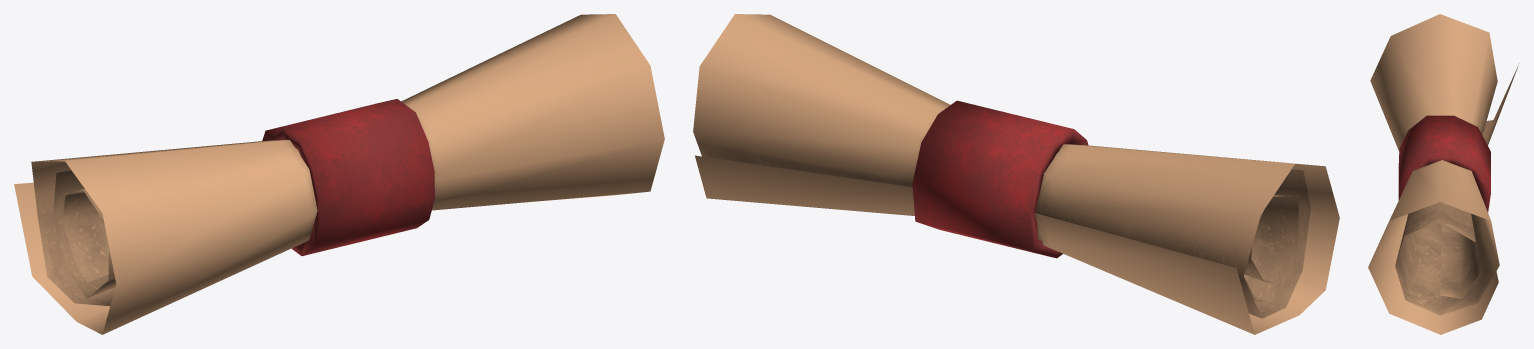
Rendered from scroll_1.fbx.
The picture shows the model from 3 angles, left to right: view 1: azimuth 30°, elevation 25°; view 2: azimuth 150°, elevation 25°; view 3: azimuth 270°, elevation 25°; orthographic projection. The views are drawn at different scales.
Visible parts, largest first — view 1: Cylinder.013; view 2: Cylinder.013; view 3: Cylinder.013.
Boxes of the visible parts, box(x1,y1,x2,y2) form: Cylinder.013: box(14, 14, 664, 334); Cylinder.013: box(693, 14, 1339, 334); Cylinder.013: box(1368, 14, 1519, 334).
Size of the model in its own units: 879 by 276 by 286.
